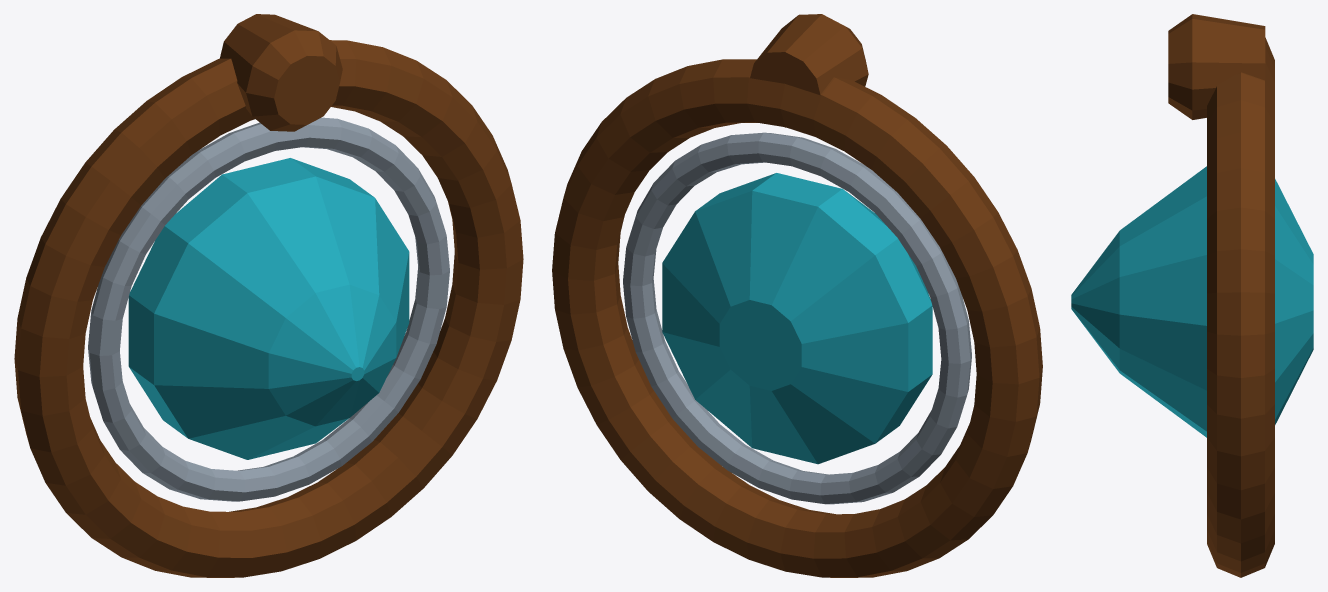
File: SM_MF_EclipseAmulet.obj
3 views of the same model, side by side, from view 1: azimuth 30°, elevation 25°; view 2: azimuth 150°, elevation 25°; view 3: azimuth 270°, elevation 25° (orthographic). The views are drawn at different scales.
Parts seen in each view (by area): view 1: SM_MF_EclipseAmulet; view 2: SM_MF_EclipseAmulet; view 3: SM_MF_EclipseAmulet.
Part boxes in pixels (box(x1,y1,x2,y2)): SM_MF_EclipseAmulet: box(14, 14, 523, 577); SM_MF_EclipseAmulet: box(552, 14, 1042, 577); SM_MF_EclipseAmulet: box(1071, 14, 1313, 577).
Bounding box in the file's own units: 22.8 × 24.3 × 10.
